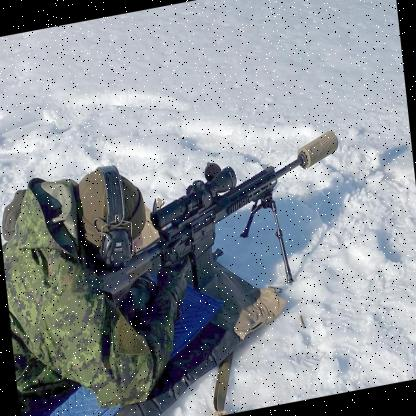rifle: (91, 125, 353, 318)
